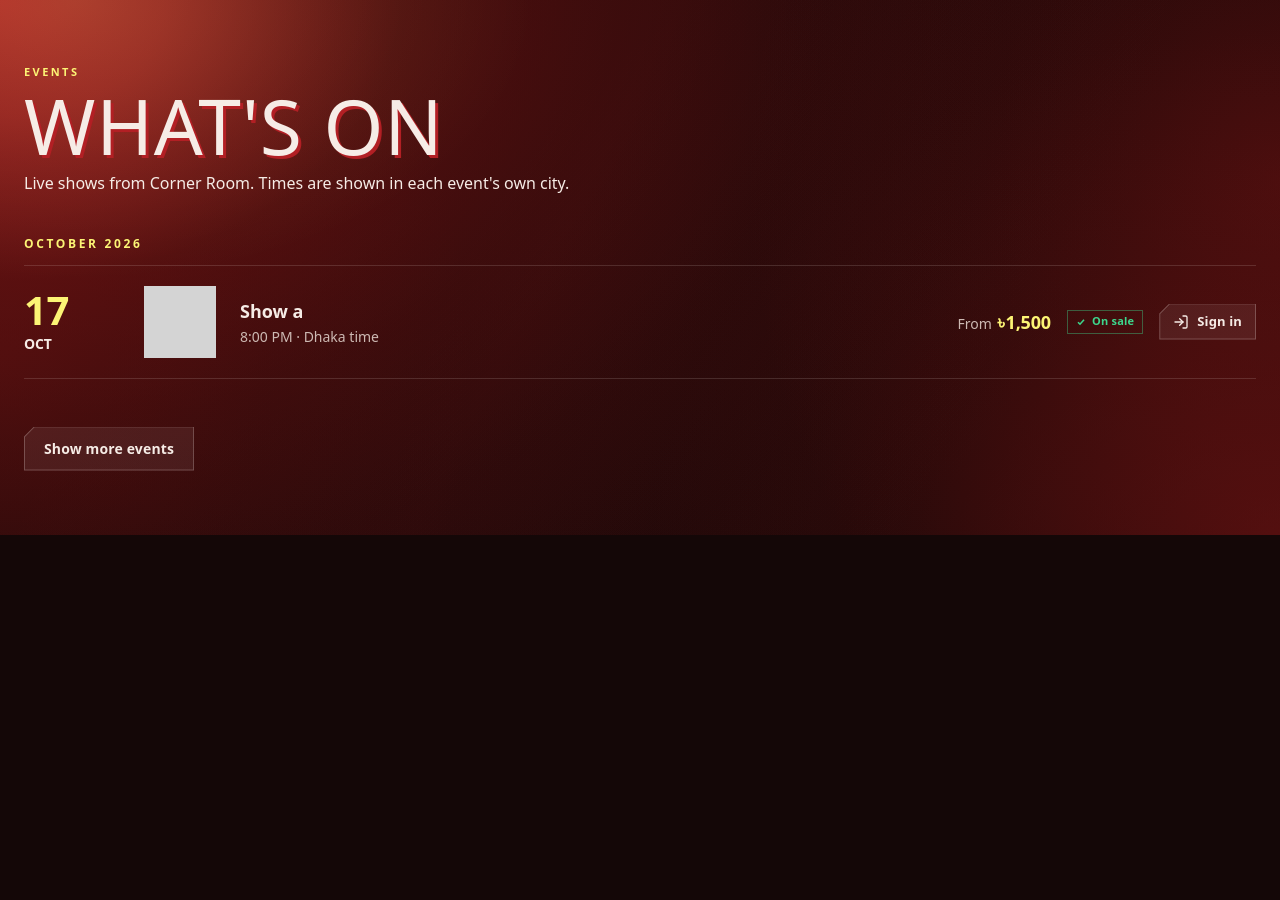
Scenario: What's On › loads the next page on request and keeps the rows it has
Expected: the text "Show z" is not shown
Click the button "Show more events": (109, 448) [24,426,194,470]
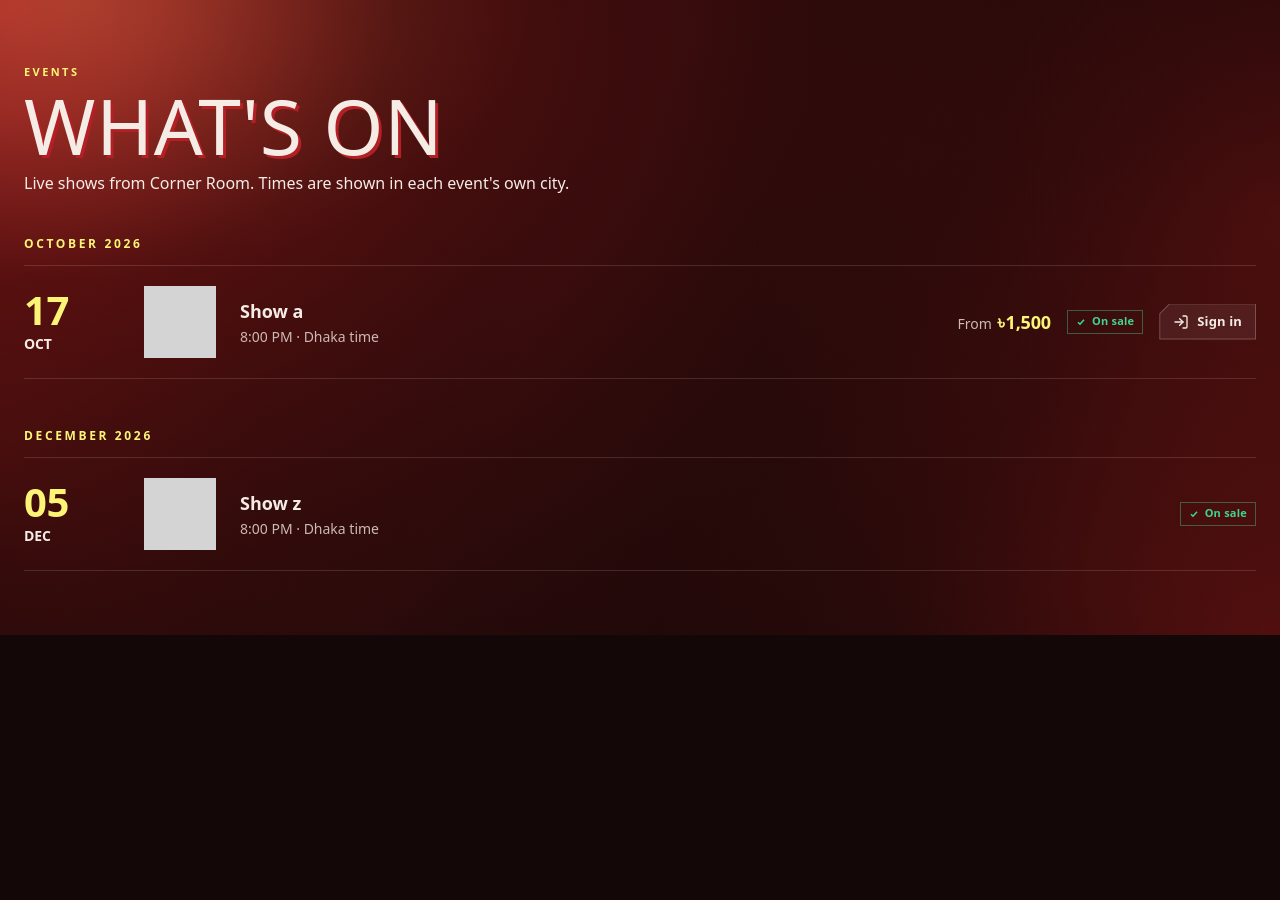
Expected: the link "Show a" is shown, [240,298,304,322]
Expected: the link "Show z" is shown, [240,490,301,514]
Expected: the button "Show more events" is gone
